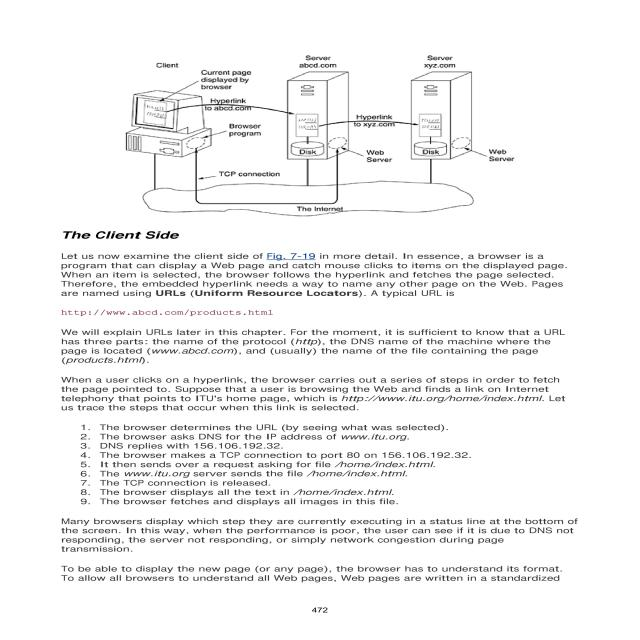diagram: (39, 49, 605, 226)
